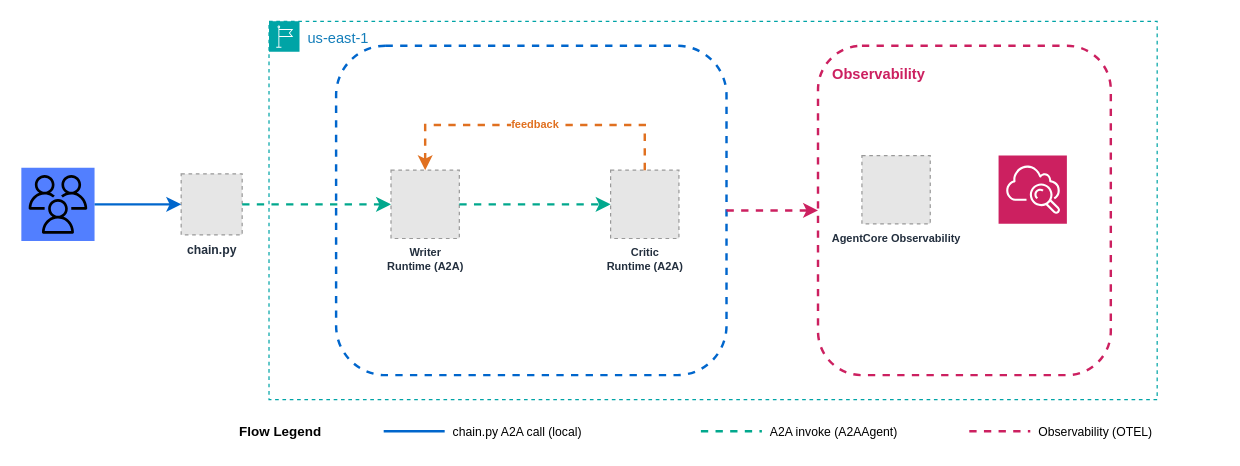
Image size: 1240x466. Some labels were removed from this diagram. Grey dashed boxes stand in for pictures. The shapes that lost their labels are listed below. From the top down, each one's box as (x1, y1, x2, y2) in pixels, then its label:
(21, 167, 94, 240): User
(997, 154, 1067, 224): Amazon CloudWatch
(334, 44, 727, 376): AgentCore Runtimes
